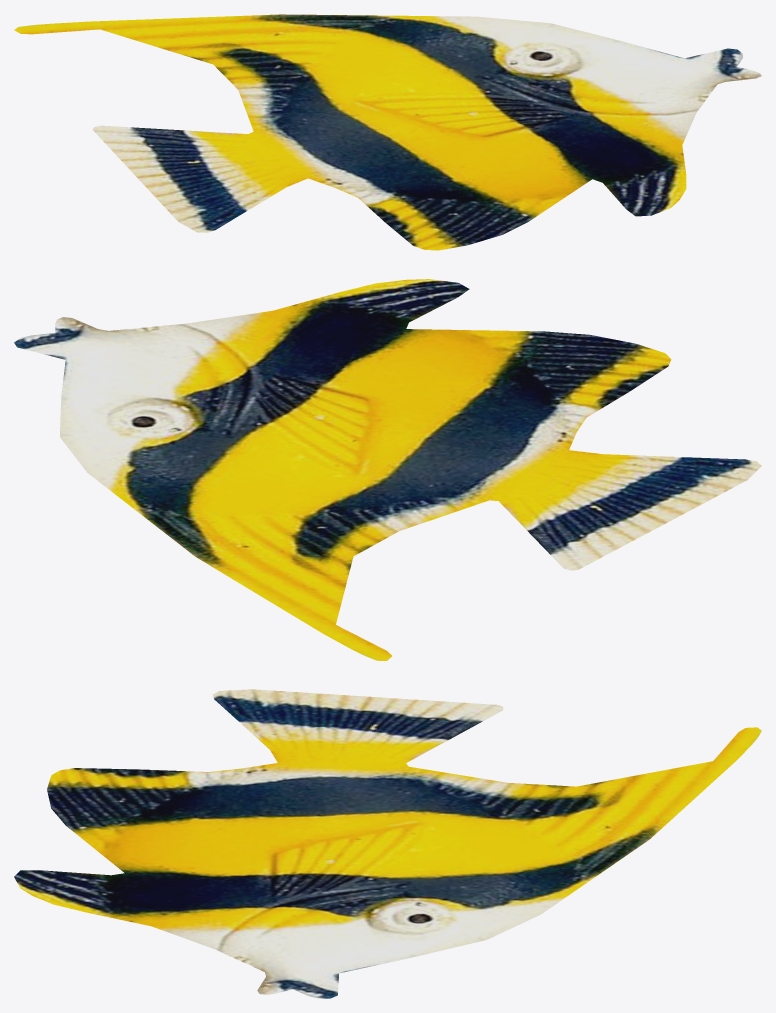
File: fish1.FBX
3 views of the same model, one above another, from view 1: azimuth 30°, elevation 25°; view 2: azimuth 150°, elevation 25°; view 3: azimuth 270°, elevation 25° (orthographic). The views are drawn at different scales.
Parts seen in each view (by area): view 1: Shape1; view 2: Shape1; view 3: Shape1.
Boxes of the visible parts, x1,y1,x2,y2 form: Shape1: (14,14,761,250); Shape1: (14,279,761,660); Shape1: (14,689,761,998).
Bounding box in the file's own units: 133 × 3.85e-14 × 136.
